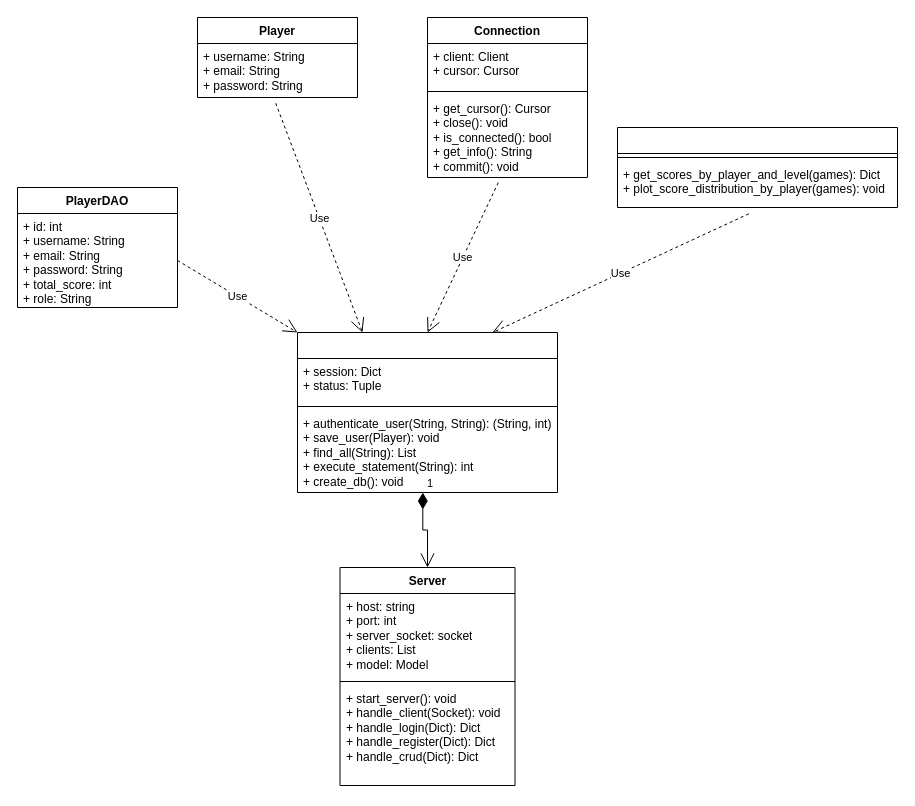
Image size: 915x806. Some labels were removed from this diagram. Each missing label, with the box of its shape:
Model: (296, 332, 558, 492)
Statistics: (616, 126, 898, 208)
